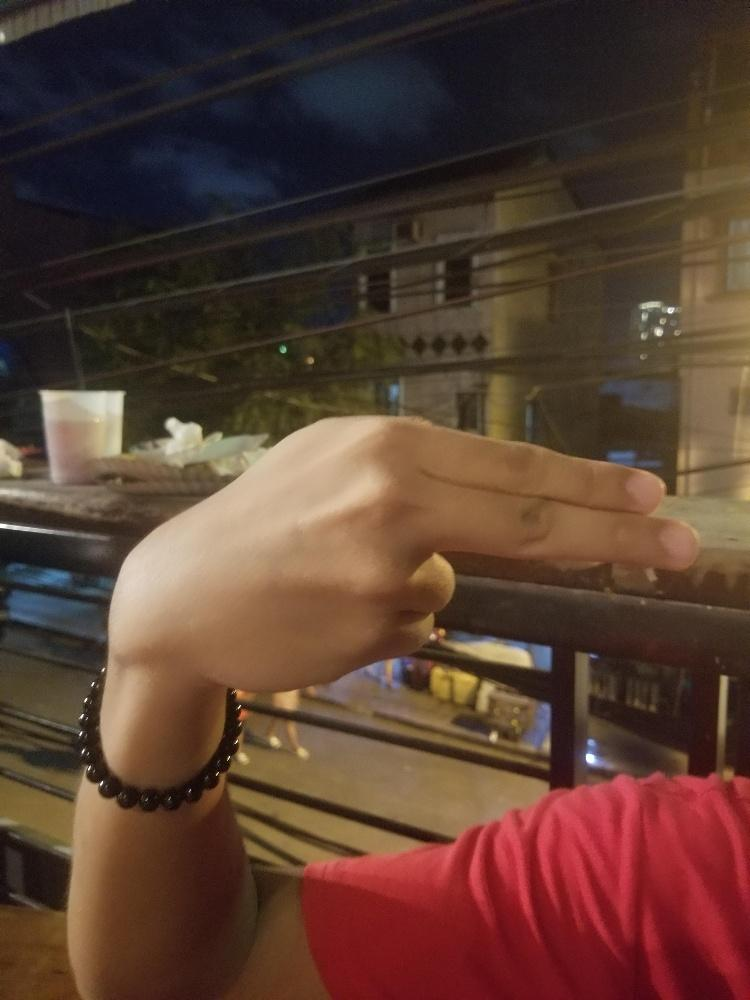h: (209, 412, 699, 695)
